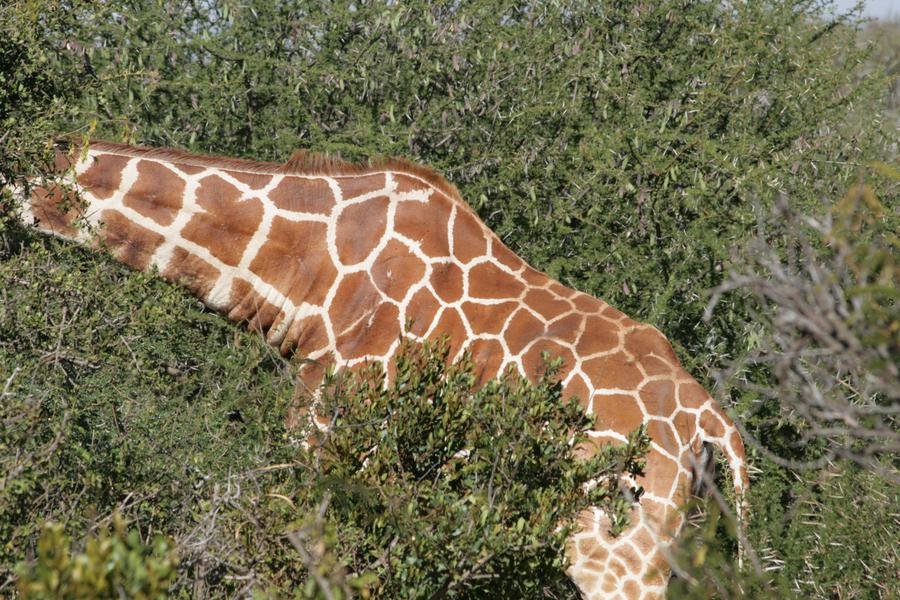giraffe: (74, 141, 711, 451)
